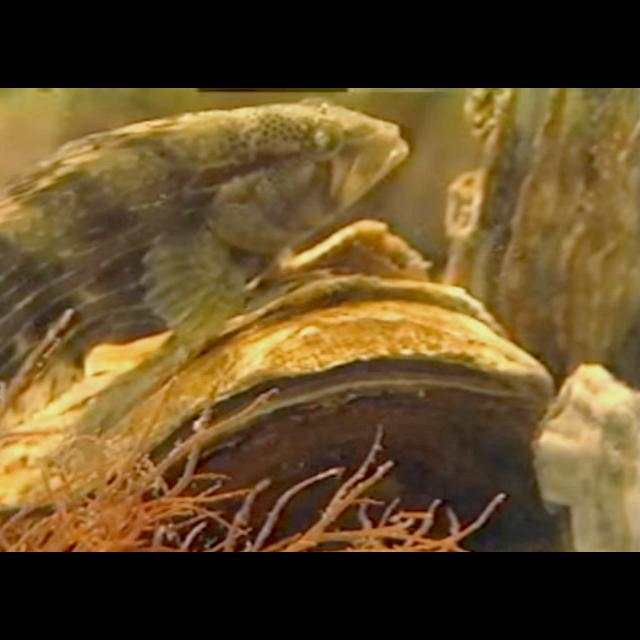Oyster-Open: (0, 275, 552, 536), (438, 88, 640, 398), (530, 363, 640, 553)
